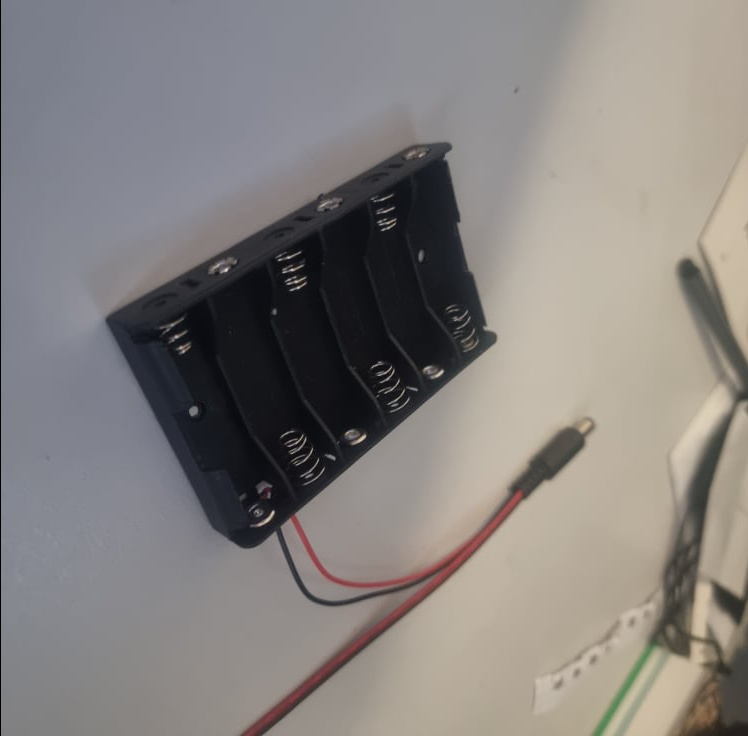BATTERY BOX: (101, 144, 497, 551)
